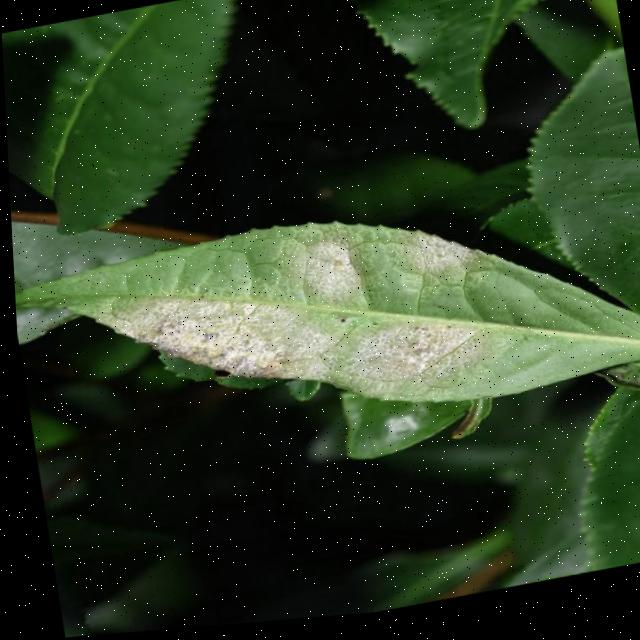Tea exobasidium blight: (92, 215, 479, 453)
